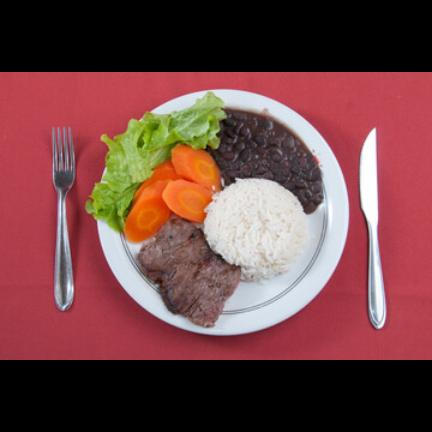beans: (208, 108, 323, 213)
carrot: (124, 146, 221, 242)
meat: (137, 219, 241, 327)
rice: (204, 179, 308, 281)
salad: (86, 93, 225, 231)
